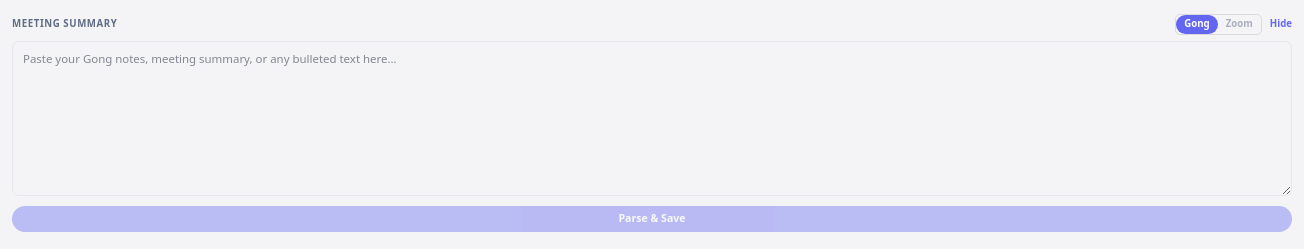
Test: GongSummaryPanel — per-provider saves › surfaces a save failure without losing the typed text
Type "- Pasted a Gong recap" into the text box at (652, 118), box 12,40 -> 1292,196
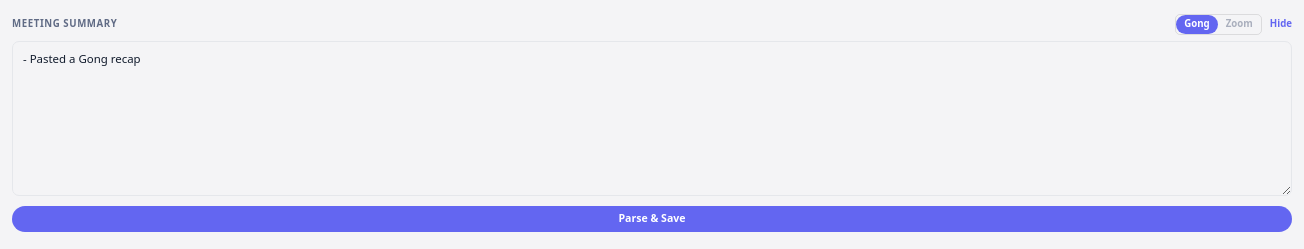
Click the button "Parse & Save" at (652, 219), box 12,206 -> 1292,232
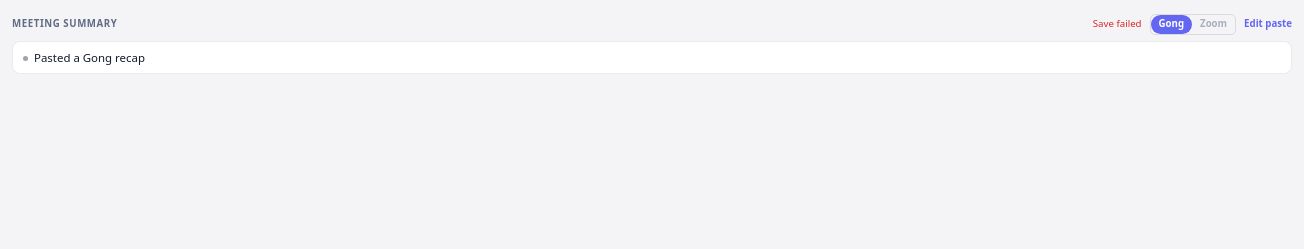
Now the text "Save failed" is shown, box 1093,17 -> 1142,32
Now the text "Pasted a Gong recap" is shown, box 34,50 -> 145,64
